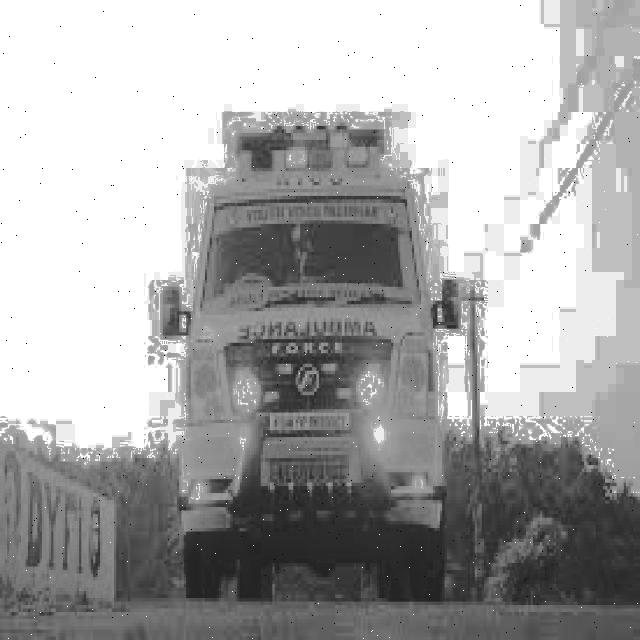LCV: (159, 122, 463, 535)
